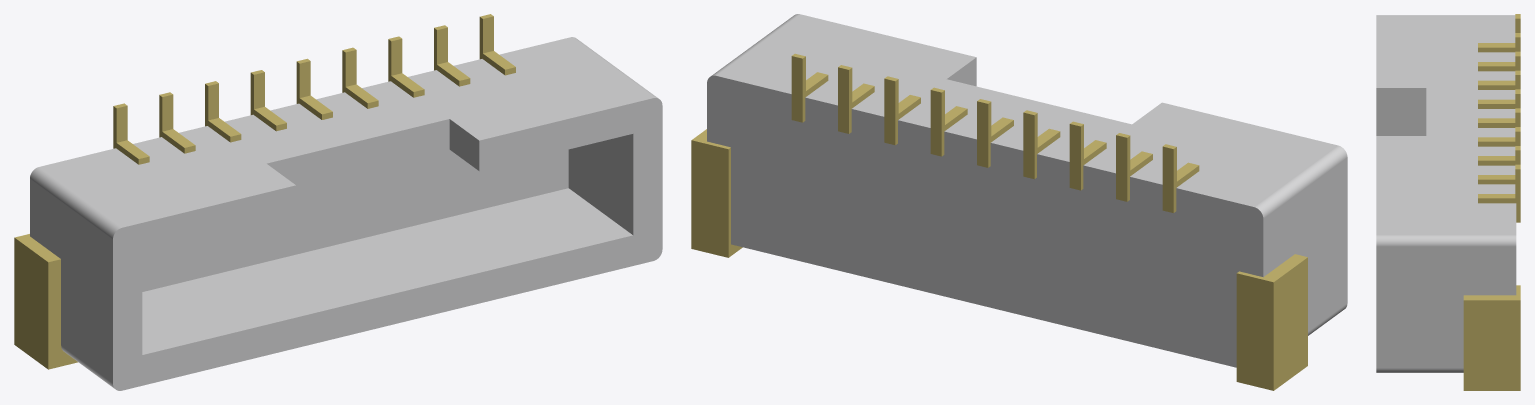
File: jst_gh_9pin.glb
The picture shows the model from 3 angles, left to right: view 1: azimuth 30°, elevation 25°; view 2: azimuth 150°, elevation 25°; view 3: azimuth 270°, elevation 25°; orthographic projection. The views are drawn at different scales.
Parts seen in each view (by area): view 1: world; view 2: world; view 3: world.
Boxes of the visible parts, left/top/right/bottom form: world: left=14, top=14, right=662, bottom=390; world: left=691, top=14, right=1347, bottom=390; world: left=1376, top=14, right=1520, bottom=390.
Size of the model in its own units: 15.7 by 5.6 by 4.05.
